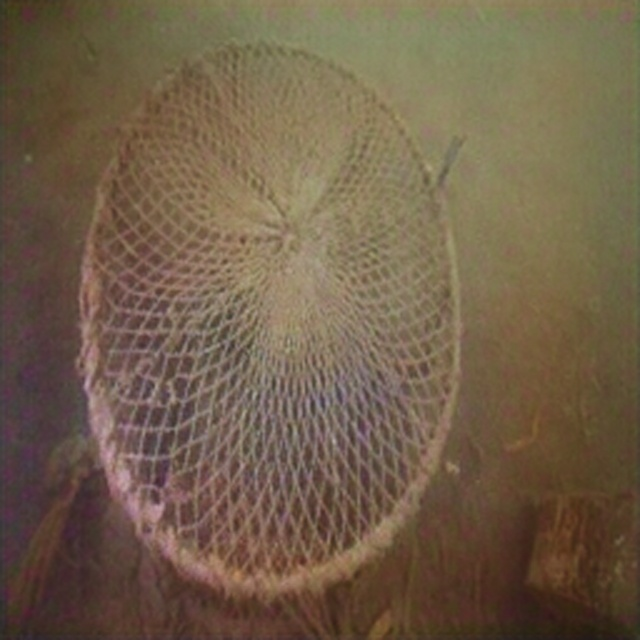mine: (78, 36, 463, 639)
